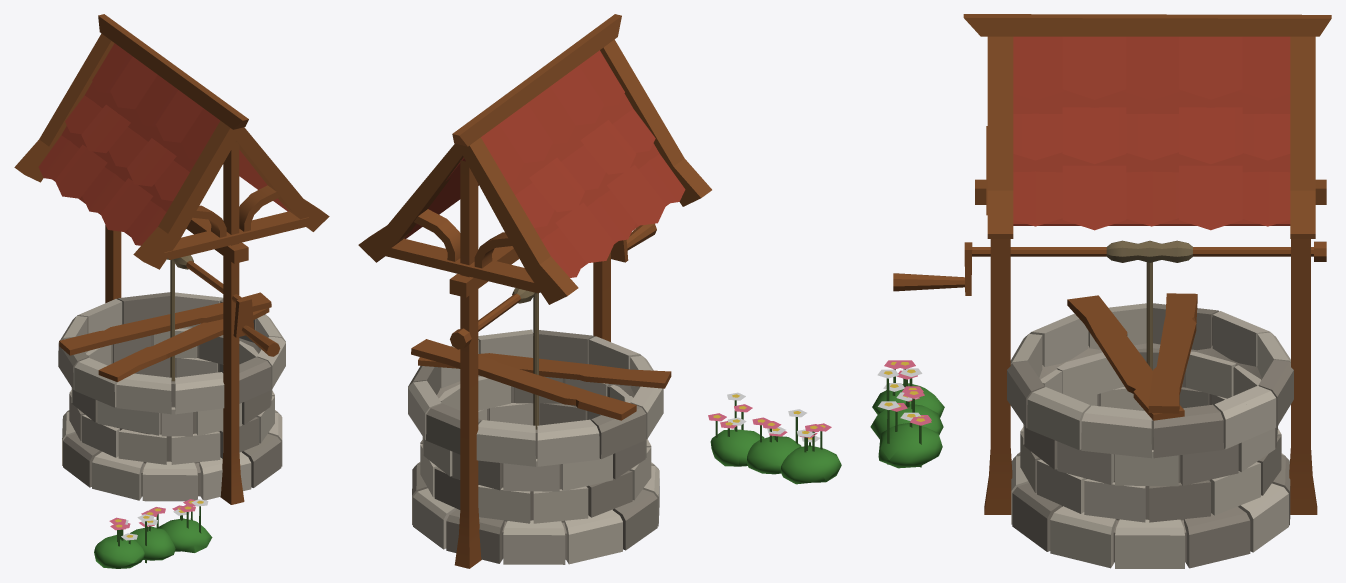
The model's file is stone_well.glb.
3 renders of one model, left to right at view 1: azimuth 30°, elevation 25°; view 2: azimuth 150°, elevation 25°; view 3: azimuth 270°, elevation 25°, orthographic. The views are drawn at different scales.
Visible parts, largest first — view 1: decor-stone_well; view 2: decor-stone_well; view 3: decor-stone_well.
Boxes of the visible parts, left/top/right/bottom form: decor-stone_well: left=14, top=14, right=329, bottom=568; decor-stone_well: left=358, top=14, right=841, bottom=568; decor-stone_well: left=870, top=14, right=1331, bottom=568.
Size of the model in its own units: 2.54 by 3.49 by 2.95.
